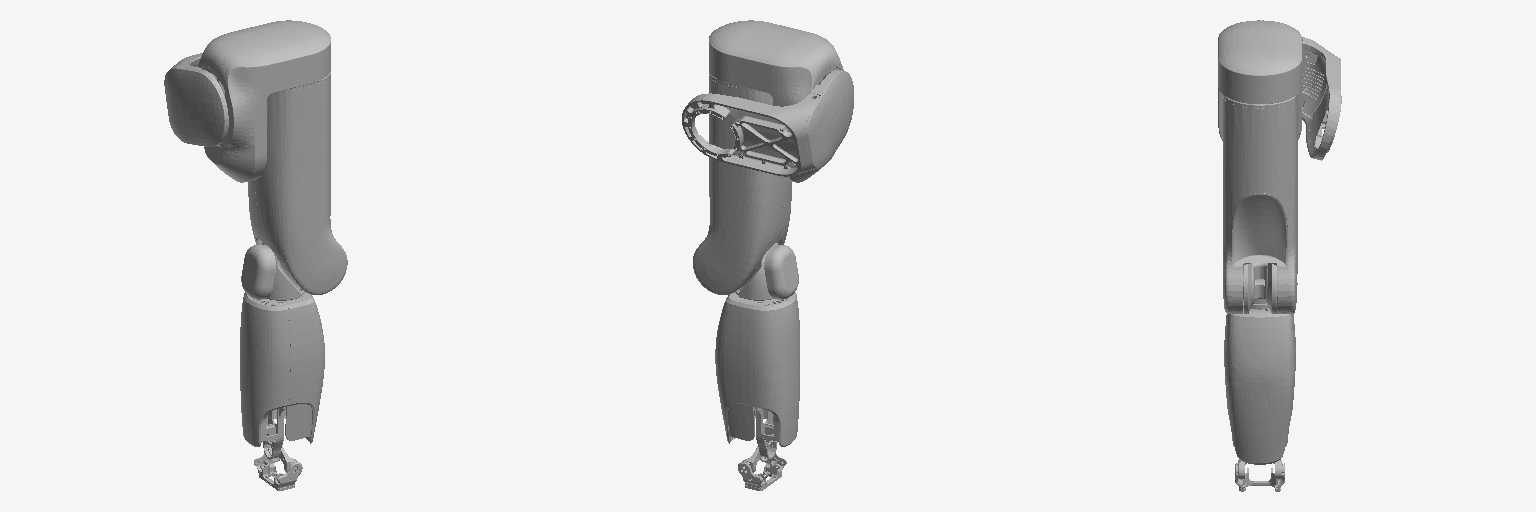
URDF robot description (URDF_ALLEX_RightArm):
<?xml version="1.0" encoding="utf-8"?>
<!-- This URDF was automatically created by SolidWorks to URDF Exporter! Originally created by Stephen Brawner (brawner@gmail.com) 
     Commit Version: 1.6.0-4-g7f85cfe  Build Version: 1.6.7995.38578
     For more information, please see http://wiki.ros.org/sw_urdf_exporter -->
<robot
  name="URDF_ALLEX_RightArm">
  <link
    name="base_link">
    <inertial>
      <origin
        xyz="0.020456 -0.00088282 0.38854"
        rpy="0 0 0" />
      <mass
        value="6.5591" />
      <inertia
        ixx="0.11249"
        ixy="-2.2196E-05"
        ixz="-4.2006E-05"
        iyy="0.035181"
        iyz="0.00017152"
        izz="0.094417" />
    </inertial>
    <visual>
      <origin
        xyz="0 0 0"
        rpy="0 0 0" />
      <geometry>
        <mesh
          filename="package://URDF_ALLEX_RightArm/meshes/base_link.STL" />
      </geometry>
      <material
        name="">
        <color
          rgba="0.75294 0.75294 0.75294 1" />
      </material>
    </visual>
    <collision>
      <origin
        xyz="0 0 0"
        rpy="0 0 0" />
      <geometry>
        <mesh
          filename="package://URDF_ALLEX_RightArm/meshes/base_link.STL" />
      </geometry>
    </collision>
  </link>
  <link
    name="shoulder_pitch">
    <inertial>
      <origin
        xyz="-0.108557440546284 1.41422957161685E-05 -0.0500707282356584"
        rpy="0 0 0" />
      <mass
        value="0.30375707929662" />
      <inertia
        ixx="0.000727342427964196"
        ixy="-1.19315424397264E-08"
        ixz="-9.54832350933797E-05"
        iyy="0.00108174201763599"
        iyz="-6.16123827267066E-08"
        izz="0.00135021809601606" />
    </inertial>
    <visual>
      <origin
        xyz="0 0 0"
        rpy="0 0 0" />
      <geometry>
        <mesh
          filename="package://URDF_ALLEX_RightArm/meshes/shoulder_pitch.STL" />
      </geometry>
      <material
        name="">
        <color
          rgba="0.752941176470588 0.752941176470588 0.752941176470588 1" />
      </material>
    </visual>
    <collision>
      <origin
        xyz="0 0 0"
        rpy="0 0 0" />
      <geometry>
        <mesh
          filename="package://URDF_ALLEX_RightArm/meshes/shoulder_pitch.STL" />
      </geometry>
    </collision>
  </link>
  <joint
    name="SP"
    type="revolute">
    <origin
      xyz="0.1415 -0.0699 1.1832"
      rpy="-1.8326 0 0" />
    <parent
      link="base_link" />
    <child
      link="shoulder_pitch" />
    <axis
      xyz="0 0 1" />
    <limit
      lower="-3.31613"
      upper="1.74533"
      effort="200"
      velocity="10" />
  </joint>
  <link
    name="shoulder_roll">
    <inertial>
      <origin
        xyz="-0.00658011582242968 9.86959996518433E-06 0.0667714155662714"
        rpy="0 0 0" />
      <mass
        value="0.250426928917832" />
      <inertia
        ixx="0.00100080987728438"
        ixy="-3.67392000874271E-08"
        ixz="6.2802719364131E-05"
        iyy="0.000778397515415368"
        iyz="1.17477708495455E-07"
        izz="0.000769945212764268" />
    </inertial>
    <visual>
      <origin
        xyz="0 0 0"
        rpy="0 0 0" />
      <geometry>
        <mesh
          filename="package://URDF_ALLEX_RightArm/meshes/shoulder_roll.STL" />
      </geometry>
      <material
        name="">
        <color
          rgba="0.752941176470588 0.752941176470588 0.752941176470588 1" />
      </material>
    </visual>
    <collision>
      <origin
        xyz="0 0 0"
        rpy="0 0 0" />
      <geometry>
        <mesh
          filename="package://URDF_ALLEX_RightArm/meshes/shoulder_roll.STL" />
      </geometry>
    </collision>
  </link>
  <joint
    name="SR"
    type="revolute">
    <origin
      xyz="-0.1364 0 -0.12089"
      rpy="1.5708 -0.2618 1.5708" />
    <parent
      link="shoulder_pitch" />
    <child
      link="shoulder_roll" />
    <axis
      xyz="0 0 1" />
    <limit
      lower="-3.75246"
      upper="0.0872665"
      effort="180"
      velocity="10" />
  </joint>
  <link
    name="shoulder_yaw">
    <inertial>
      <origin
        xyz="0.00393901412176233 -1.60354069783653E-06 -0.16791442773271"
        rpy="0 0 0" />
      <mass
        value="0.486620324198405" />
      <inertia
        ixx="0.00449165977586335"
        ixy="-1.40276994149623E-06"
        ixz="0.000109207536009794"
        iyy="0.00500598783494019"
        iyz="2.00643396027092E-06"
        izz="0.000831958403483908" />
    </inertial>
    <visual>
      <origin
        xyz="0 0 0"
        rpy="0 0 0" />
      <geometry>
        <mesh
          filename="package://URDF_ALLEX_RightArm/meshes/shoulder_yaw.STL" />
      </geometry>
      <material
        name="">
        <color
          rgba="0.752941176470588 0.752941176470588 0.752941176470588 1" />
      </material>
    </visual>
    <collision>
      <origin
        xyz="0 0 0"
        rpy="0 0 0" />
      <geometry>
        <mesh
          filename="package://URDF_ALLEX_RightArm/meshes/shoulder_yaw.STL" />
      </geometry>
    </collision>
  </link>
  <joint
    name="SY"
    type="revolute">
    <origin
      xyz="-0.033028 -0.00010326 0.1364"
      rpy="0 -1.5708 0" />
    <parent
      link="shoulder_roll" />
    <child
      link="shoulder_yaw" />
    <axis
      xyz="0 0 1" />
    <limit
      lower="-1.74533"
      upper="3.31613"
      effort="150"
      velocity="10" />
  </joint>
  <link
    name="elbow">
    <inertial>
      <origin
        xyz="-0.033459994229308 0.0032838591901071 -8.95842471215769E-06"
        rpy="0 0 0" />
      <mass
        value="0.0886267138392492" />
      <inertia
        ixx="0.000119770600341942"
        ixy="3.05655716610167E-06"
        ixz="-5.63039998610608E-09"
        iyy="7.60604837008356E-05"
        iyz="2.9485910504365E-09"
        izz="9.69678765240406E-05" />
    </inertial>
    <visual>
      <origin
        xyz="0 0 0"
        rpy="0 0 0" />
      <geometry>
        <mesh
          filename="package://URDF_ALLEX_RightArm/meshes/elbow.STL" />
      </geometry>
      <material
        name="">
        <color
          rgba="0.752941176470588 0.752941176470588 0.752941176470588 1" />
      </material>
    </visual>
    <collision>
      <origin
        xyz="0 0 0"
        rpy="0 0 0" />
      <geometry>
        <mesh
          filename="package://URDF_ALLEX_RightArm/meshes/elbow.STL" />
      </geometry>
    </collision>
  </link>
  <joint
    name="EP"
    type="revolute">
    <origin
      xyz="0.0301 0 -0.327"
      rpy="-1.5708 0 0" />
    <parent
      link="shoulder_yaw" />
    <child
      link="elbow" />
    <axis
      xyz="0 0 1" />
    <limit
      lower="-2.87979"
      upper="0.0872665"
      effort="150"
      velocity="10" />
  </joint>
  <link
    name="forearm">
    <inertial>
      <origin
        xyz="-0.00366649876918209 -9.97917465305753E-05 -0.110349311448614"
        rpy="0 0 0" />
      <mass
        value="0.305067427837473" />
      <inertia
        ixx="0.00190293040684571"
        ixy="1.68432068795325E-07"
        ixz="-1.8828600467237E-05"
        iyy="0.00163172677842043"
        iyz="-9.69285237900309E-08"
        izz="0.000479571078759277" />
    </inertial>
    <visual>
      <origin
        xyz="0 0 0"
        rpy="0 0 0" />
      <geometry>
        <mesh
          filename="package://URDF_ALLEX_RightArm/meshes/forearm.STL" />
      </geometry>
      <material
        name="">
        <color
          rgba="0.752941176470588 0.752941176470588 0.752941176470588 1" />
      </material>
    </visual>
    <collision>
      <origin
        xyz="0 0 0"
        rpy="0 0 0" />
      <geometry>
        <mesh
          filename="package://URDF_ALLEX_RightArm/meshes/forearm.STL" />
      </geometry>
    </collision>
  </link>
  <joint
    name="EY"
    type="revolute">
    <origin
      xyz="-0.0451 0.0465 0"
      rpy="1.5708 0 0" />
    <parent
      link="elbow" />
    <child
      link="forearm" />
    <axis
      xyz="0 0 1" />
    <limit
      lower="-0.610865"
      upper="4.79966"
      effort="150"
      velocity="10" />
  </joint>
  <link
    name="wrist_roll">
    <inertial>
      <origin
        xyz="0.0133162702793879 1.07124505652201E-06 0.0101986764675338"
        rpy="0 0 0" />
      <mass
        value="0.0105496661961021" />
      <inertia
        ixx="5.8411832785237E-06"
        ixy="-3.95719306189437E-11"
        ixz="-4.18923021013656E-07"
        iyy="1.78497795432001E-06"
        iyz="-4.19748200904185E-11"
        izz="6.60801283822342E-06" />
    </inertial>
    <visual>
      <origin
        xyz="0 0 0"
        rpy="0 0 0" />
      <geometry>
        <mesh
          filename="package://URDF_ALLEX_RightArm/meshes/wrist_roll.STL" />
      </geometry>
      <material
        name="">
        <color
          rgba="0.752941176470588 0.752941176470588 0.752941176470588 1" />
      </material>
    </visual>
    <collision>
      <origin
        xyz="0 0 0"
        rpy="0 0 0" />
      <geometry>
        <mesh
          filename="package://URDF_ALLEX_RightArm/meshes/wrist_roll.STL" />
      </geometry>
    </collision>
  </link>
  <joint
    name="WR"
    type="revolute">
    <origin
      xyz="-0.0115 0 -0.268"
      rpy="0 1.5708 0" />
    <parent
      link="forearm" />
    <child
      link="wrist_roll" />
    <axis
      xyz="0 0 1" />
    <limit
      lower="-0.872665"
      upper="0.872665"
      effort="120"
      velocity="10" />
  </joint>
  <link
    name="wrist_pitch">
    <inertial>
      <origin
        xyz="0.0120455984285805 -0.0180601543333803 -2.07743978686281E-08"
        rpy="0 0 0" />
      <mass
        value="0.0191026585819384" />
      <inertia
        ixx="5.71317689571258E-06"
        ixy="5.18275982834034E-07"
        ixz="1.11399564208155E-12"
        iyy="5.58995697610663E-06"
        iyz="-1.33605078923833E-12"
        izz="3.01793044419521E-06" />
    </inertial>
    <visual>
      <origin
        xyz="0 0 0"
        rpy="0 0 0" />
      <geometry>
        <mesh
          filename="package://URDF_ALLEX_RightArm/meshes/wrist_pitch.STL" />
      </geometry>
      <material
        name="">
        <color
          rgba="0.752941176470588 0.752941176470588 0.752941176470588 1" />
      </material>
    </visual>
    <collision>
      <origin
        xyz="0 0 0"
        rpy="0 0 0" />
      <geometry>
        <mesh
          filename="package://URDF_ALLEX_RightArm/meshes/wrist_pitch.STL" />
      </geometry>
    </collision>
  </link>
  <joint
    name="WP"
    type="revolute">
    <origin
      xyz="0.025 0 0.0165"
      rpy="-1.5708 1.5708 0" />
    <parent
      link="wrist_roll" />
    <child
      link="wrist_pitch" />
    <axis
      xyz="0 0 1" />
    <limit
      lower="-1.39626"
      upper="1.39626"
      effort="120"
      velocity="10" />
  </joint>
  <link
    name="tcp">
    <inertial>
      <origin
        xyz="-0.00855453420608767 2.07743924007797E-08 -0.0159398456666289"
        rpy="0 0 0" />
      <mass
        value="0.0191026585819384" />
      <inertia
        ixx="5.71317689571258E-06"
        ixy="1.11399561194776E-12"
        ixz="5.18275982834034E-07"
        iyy="3.01793044419521E-06"
        iyz="-1.3360507904114E-12"
        izz="5.58995697610664E-06" />
    </inertial>
    <visual>
      <origin
        xyz="0 0 0"
        rpy="0 0 0" />
      <geometry>
        <mesh
          filename="package://URDF_ALLEX_RightArm/meshes/tcp.STL" />
      </geometry>
      <material
        name="">
        <color
          rgba="0.752941176470588 0.752941176470588 0.752941176470588 1" />
      </material>
    </visual>
    <collision>
      <origin
        xyz="0 0 0"
        rpy="0 0 0" />
      <geometry>
        <mesh
          filename="package://URDF_ALLEX_RightArm/meshes/tcp.STL" />
      </geometry>
    </collision>
  </link>
  <joint
    name="tcp"
    type="fixed">
    <origin
      xyz="0.0034911 -0.034 0"
      rpy="-1.5708 0 3.1416" />
    <parent
      link="wrist_pitch" />
    <child
      link="tcp" />
    <axis
      xyz="0 0 0" />
  </joint>
</robot>

--- Facts derived from the render (not from the file) ---
Views: 3 orthographic renders of the robot side by side, from view 1: azimuth 30°, elevation 25°; view 2: azimuth 150°, elevation 25°; view 3: azimuth 270°, elevation 25°.
Model URDF_ALLEX_RightArm with 9 links and 8 joints (7 revolute, 1 fixed), rooted at base_link, posed all joints at 0.
Visible links, largest first — view 1: shoulder_yaw, forearm, shoulder_roll, shoulder_pitch, elbow, wrist_pitch; view 2: forearm, shoulder_yaw, shoulder_pitch, shoulder_roll, elbow, tcp; view 3: shoulder_yaw, forearm, shoulder_roll, shoulder_pitch, elbow.
Link boxes in pixels (x1,y1,x2,y2): shoulder_yaw: [248, 72, 347, 294]; forearm: [240, 289, 324, 458]; shoulder_roll: [198, 20, 330, 182]; shoulder_pitch: [164, 53, 228, 146]; elbow: [241, 243, 304, 300]; wrist_pitch: [254, 453, 301, 490]; forearm: [715, 288, 799, 458]; shoulder_yaw: [693, 71, 791, 294]; shoulder_pitch: [682, 70, 853, 176]; shoulder_roll: [709, 20, 843, 182]; elbow: [735, 243, 798, 300]; tcp: [738, 453, 786, 490]; shoulder_yaw: [1223, 95, 1297, 313]; forearm: [1224, 301, 1295, 464]; shoulder_roll: [1218, 20, 1301, 140]; shoulder_pitch: [1302, 37, 1341, 160]; elbow: [1243, 263, 1276, 313].
Size in the robot's own frame: 0.2435 by 0.1928 by 0.7655 metres.
8 mesh visuals loaded from 9 distinct referenced files (8 binary STL); not drawn: 1 (reference not matched to a file when rendering).
